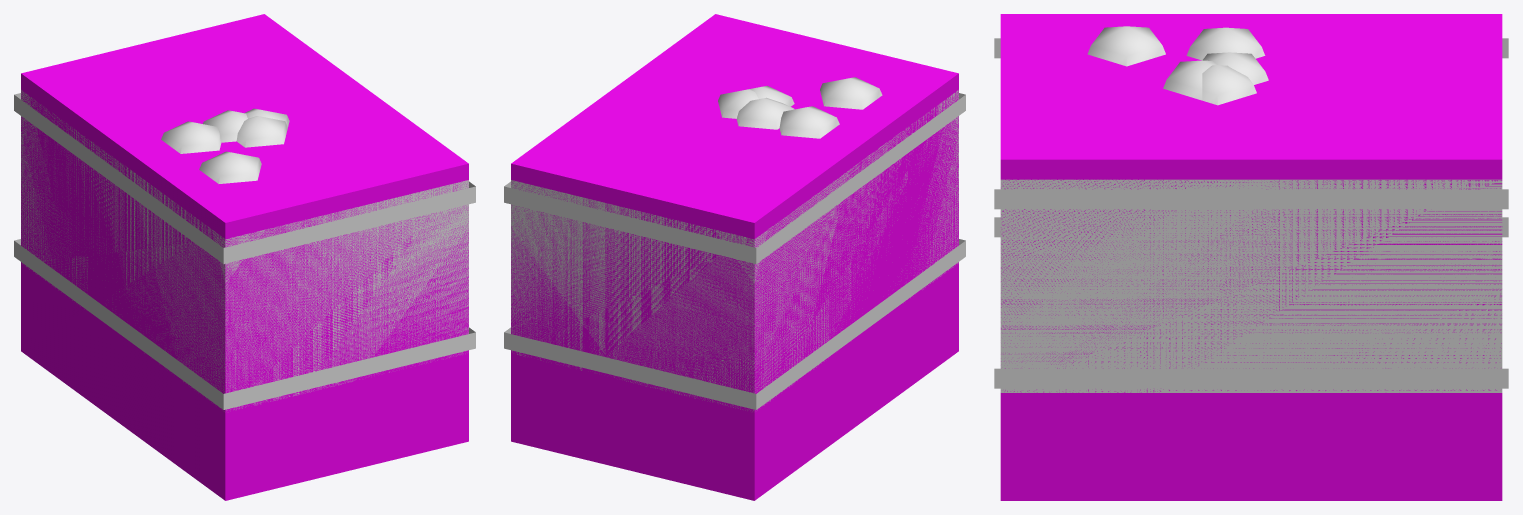
Rendered from mine_cart.glb.
3 views of the same model, side by side, from view 1: azimuth 30°, elevation 25°; view 2: azimuth 150°, elevation 25°; view 3: azimuth 270°, elevation 25° (orthographic). The views are drawn at different scales.
Parts seen in each view (by area): view 1: mine_cart_hull, mine_cart; view 2: mine_cart_hull, mine_cart; view 3: mine_cart_hull, mine_cart.
Part boxes in pixels (x1,y1,x2,y2): mine_cart_hull: (21, 14, 468, 500); mine_cart: (14, 90, 475, 411); mine_cart_hull: (511, 14, 958, 500); mine_cart: (504, 77, 965, 411); mine_cart_hull: (1000, 14, 1502, 500); mine_cart: (994, 26, 1508, 392).
Size of the model in its own units: 1.14 by 1.28 by 1.64.
